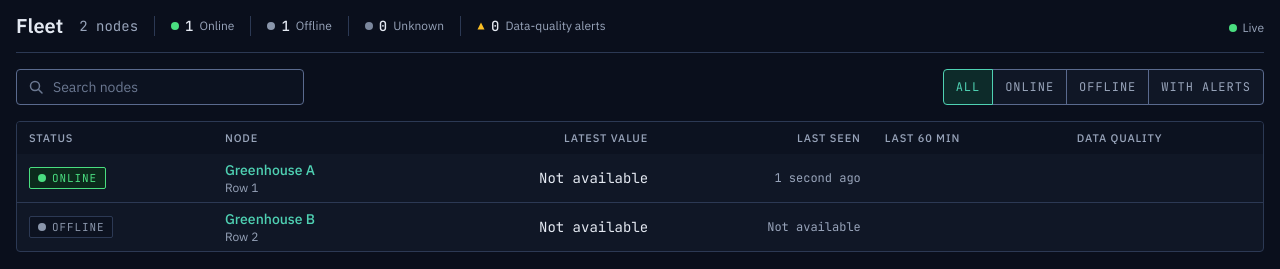
Test: FleetContainer › narrows the rendered rows to offline nodes once the Offline filter chip is selected (REQ-FLEET-4)
Check: the link "Greenhouse A" is shown, box top-left (225, 160), bottom-right (315, 180)
Check: the link "Greenhouse B" is shown, box top-left (225, 209), bottom-right (315, 229)
Click the button "Offline".
click(1108, 87)  # box top-left (1066, 69), bottom-right (1149, 105)
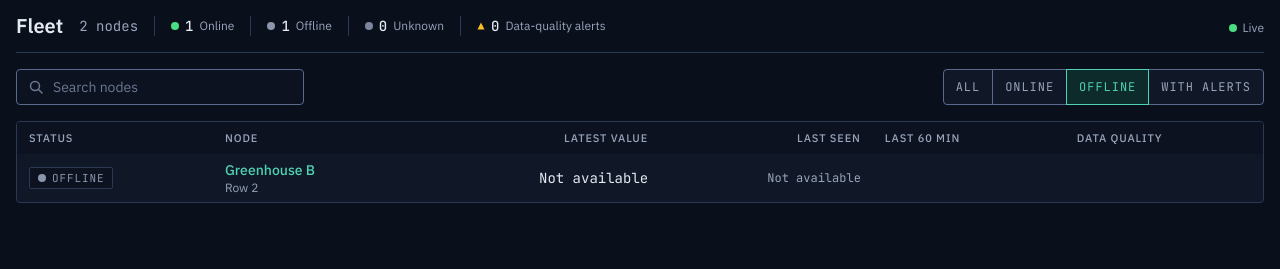
Check: the link "Greenhouse B" is shown, box top-left (225, 160), bottom-right (315, 180)
Check: the link "Greenhouse A" is gone
